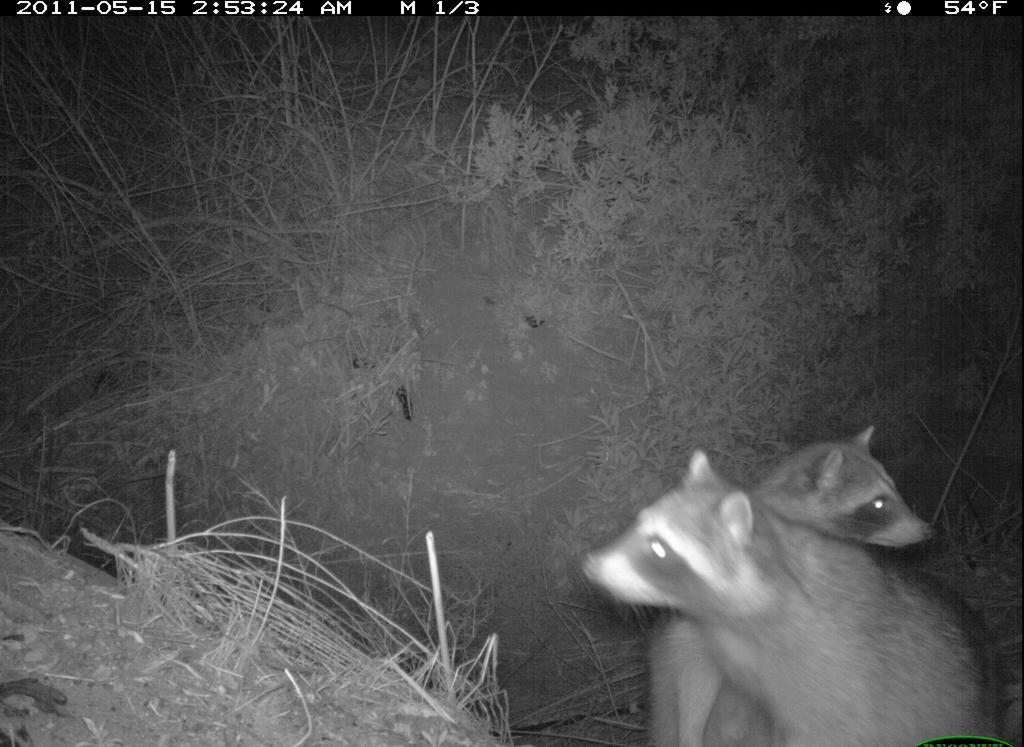raccoon: (587, 450, 1014, 745), (643, 417, 935, 742)
